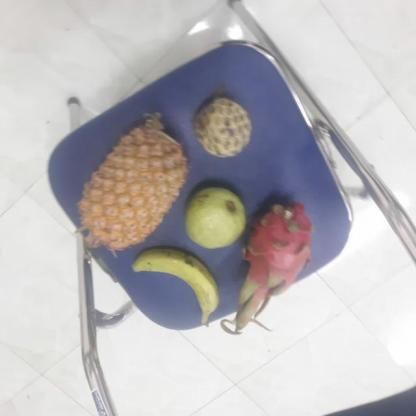annona: (187, 95, 249, 156)
banana: (130, 249, 216, 323)
guava: (180, 186, 247, 248)
pineapple: (71, 120, 184, 247)
pitaya: (230, 199, 310, 310)
